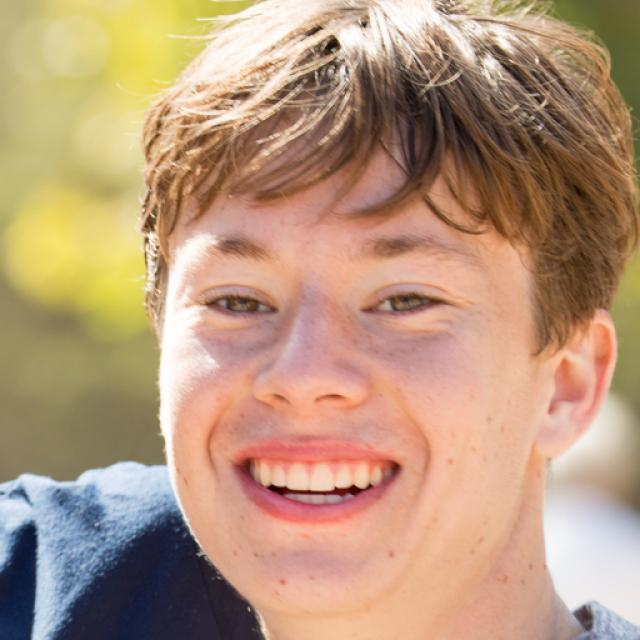happy: (162, 121, 538, 620)
